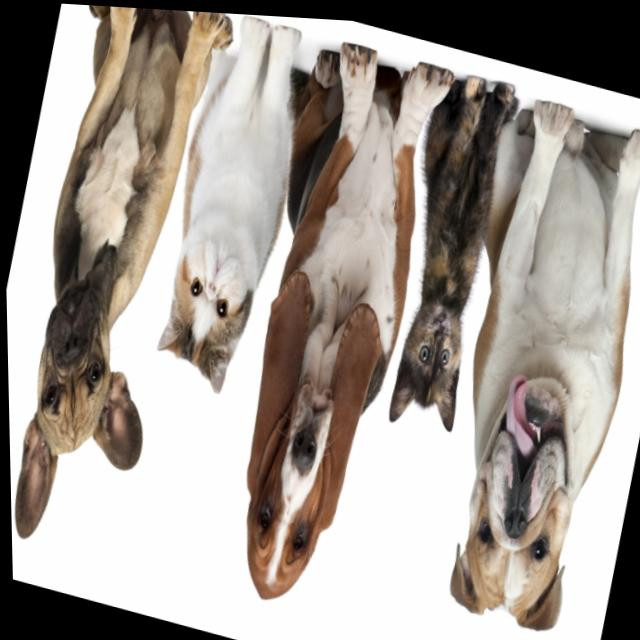Cat: (135, 6, 321, 422), (362, 60, 528, 478)
Dog: (205, 53, 444, 629), (408, 94, 640, 640), (0, 0, 226, 493)
